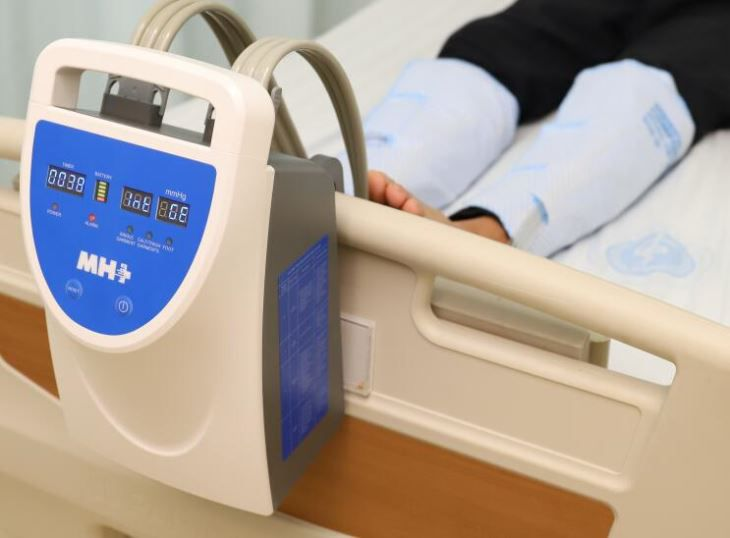foot_board: (1, 115, 730, 538)
hospital_bed: (1, 1, 730, 538)
patient: (324, 1, 730, 262)
sequential_compression: (18, 1, 373, 520)
